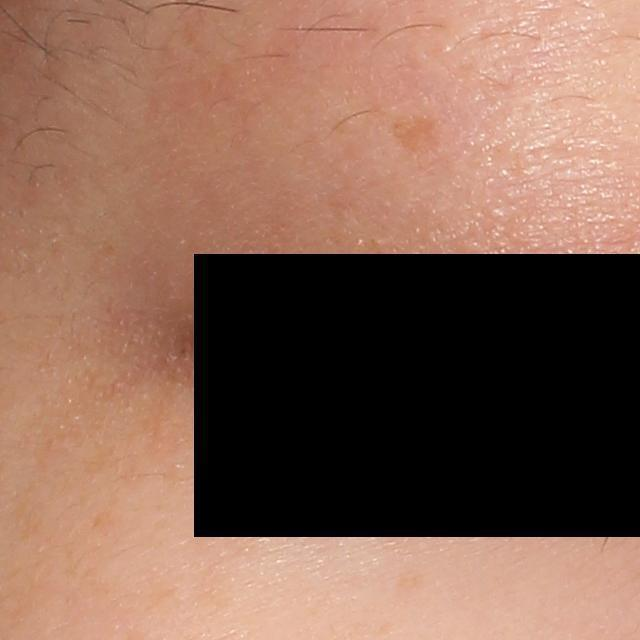melasma: (386, 114, 453, 159)
